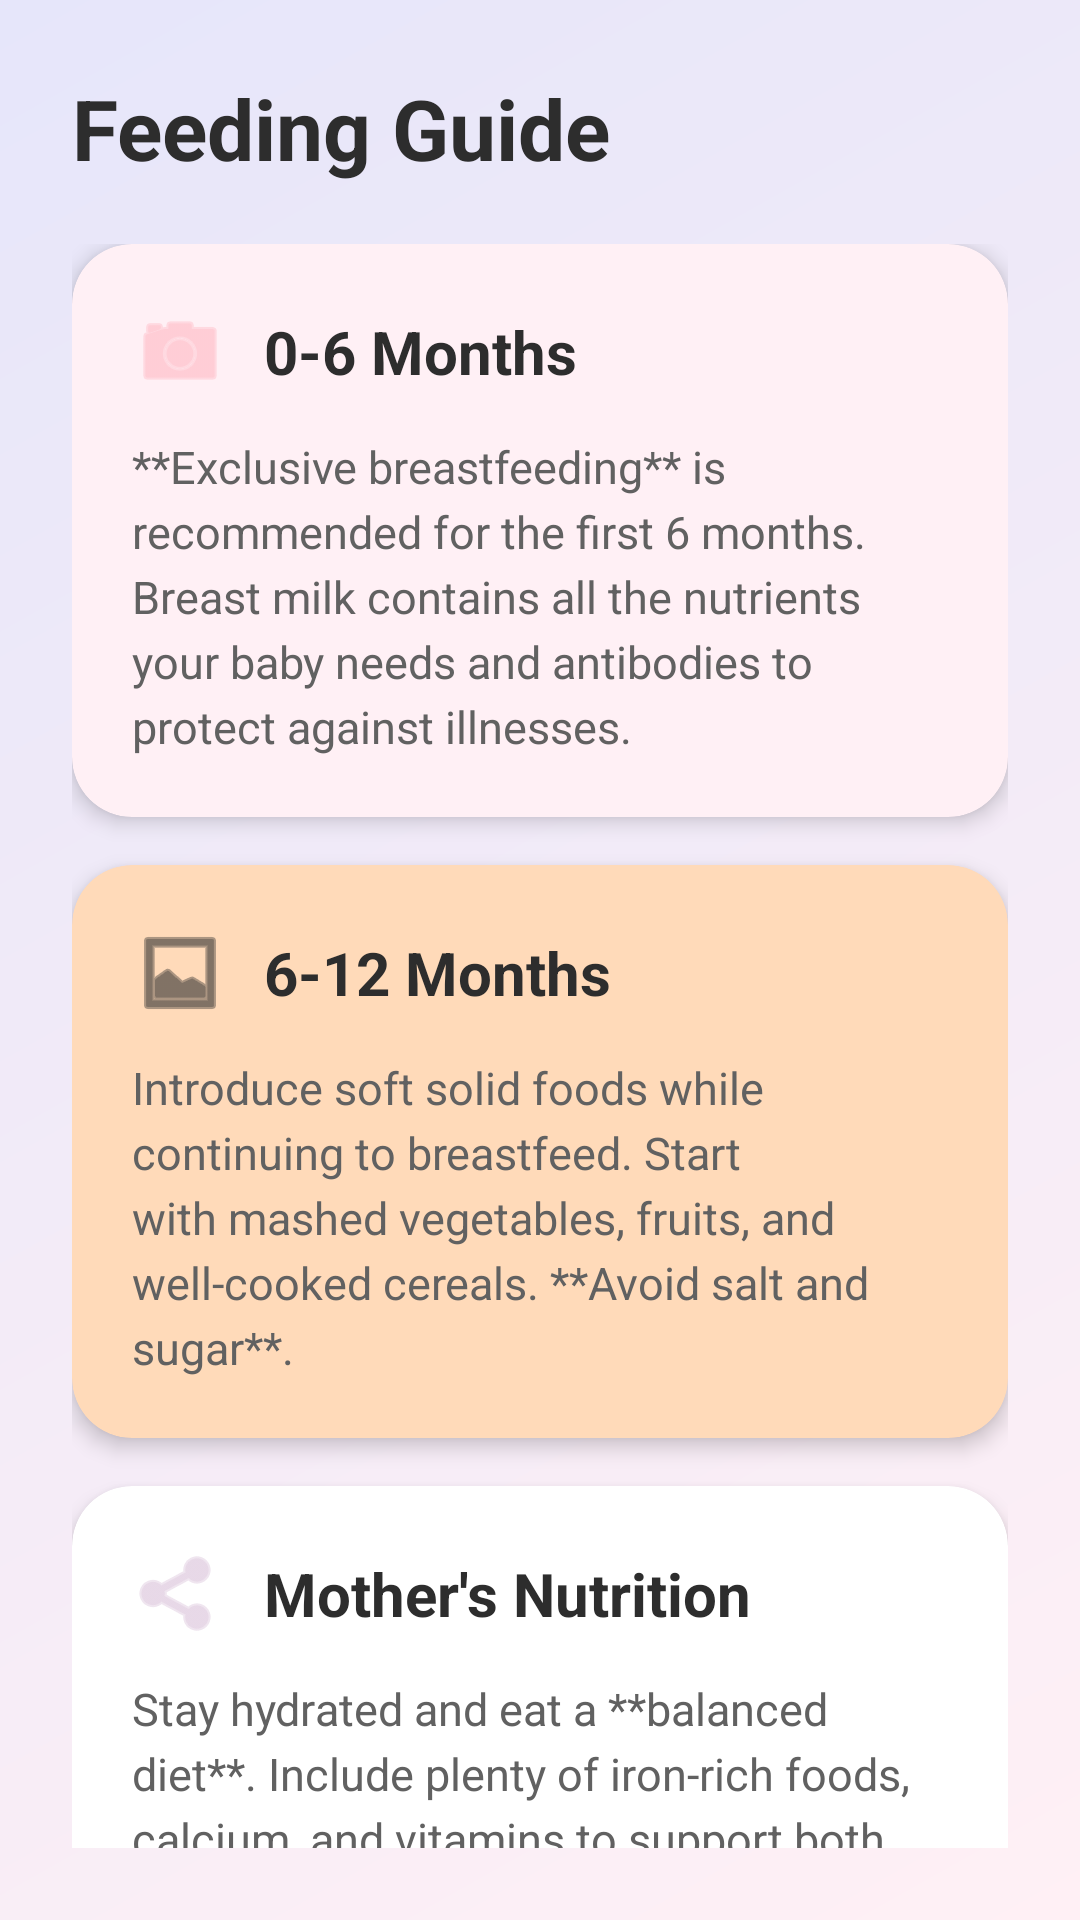

Locate icon controls on the screen. Image size 1080×1920, boxes as (x1, y1, x2, y2).
camera: (145, 323, 215, 378)
gallery: (144, 937, 216, 1009)
share: (140, 1557, 210, 1630)
